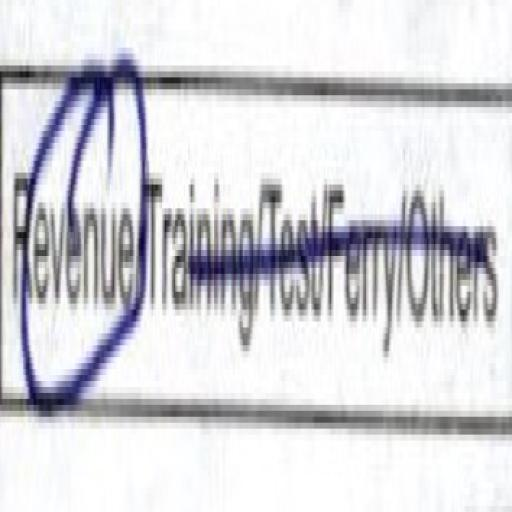check: (0, 0, 143, 452)
